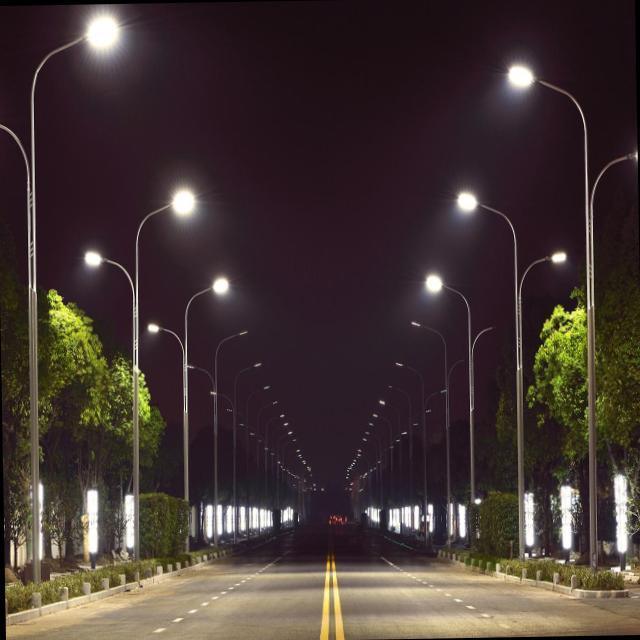on: (57, 0, 152, 86), (498, 26, 554, 118), (150, 158, 208, 230), (70, 226, 122, 292), (407, 250, 456, 316), (210, 253, 252, 320), (460, 183, 502, 240), (132, 298, 172, 348), (547, 230, 584, 272)
